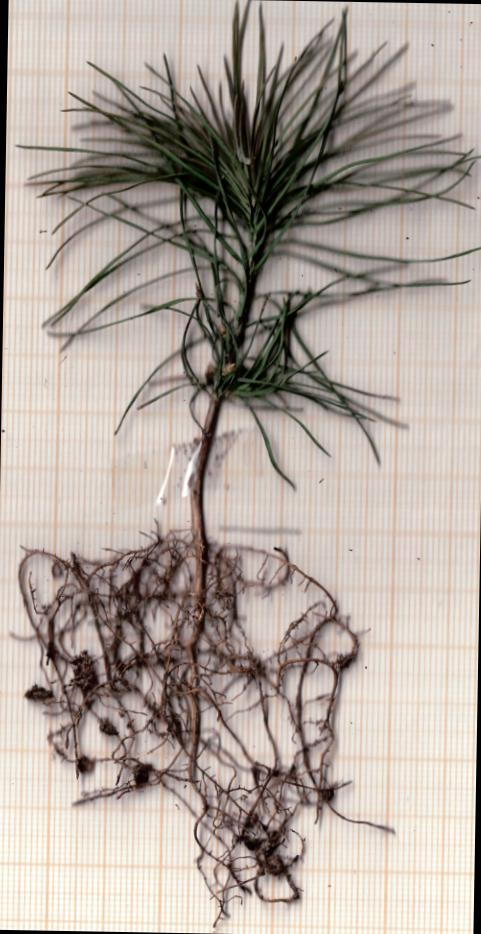flower: (8, 0, 481, 492)
root: (0, 538, 408, 922)
stem: (184, 398, 222, 541)
